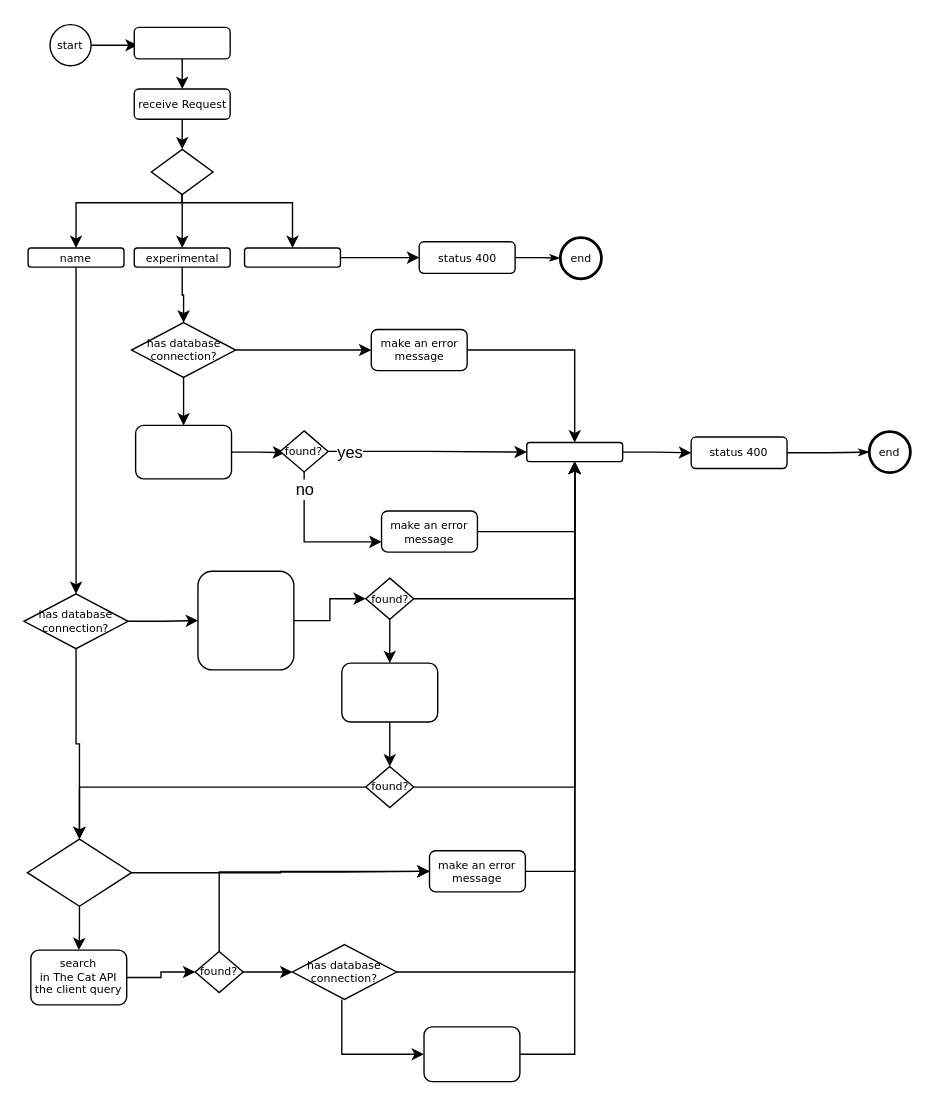
This 936x1106 diagram has some shape labels left out. The shapes that lost their labels are listed below. From the top down, each one's centre as x and y in pixels, then its label:
point (181, 42): HTTP Request
point (181, 171): query key
point (291, 257): any other
point (183, 451): search in database at table cat_breeds
point (574, 451): prepare data
point (245, 620): search in database at table query_cache same query
point (389, 692): search in database at table query_cache
point (79, 872): has The Cat API connection?
point (471, 1053): persist data in our database
